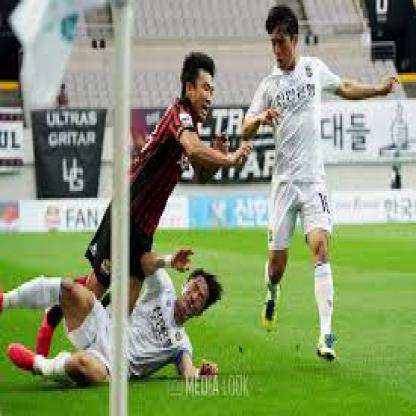Fall_Down: (1, 246, 222, 392)
